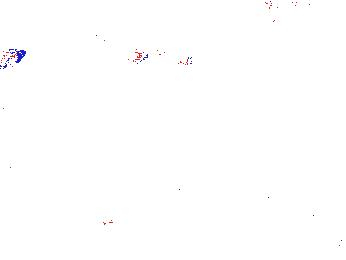X-ray fish: (238, 132, 273, 156)
red belly glassfish: (249, 14, 279, 29)
redtail glassfish: (136, 47, 196, 69), (1, 46, 26, 71)
